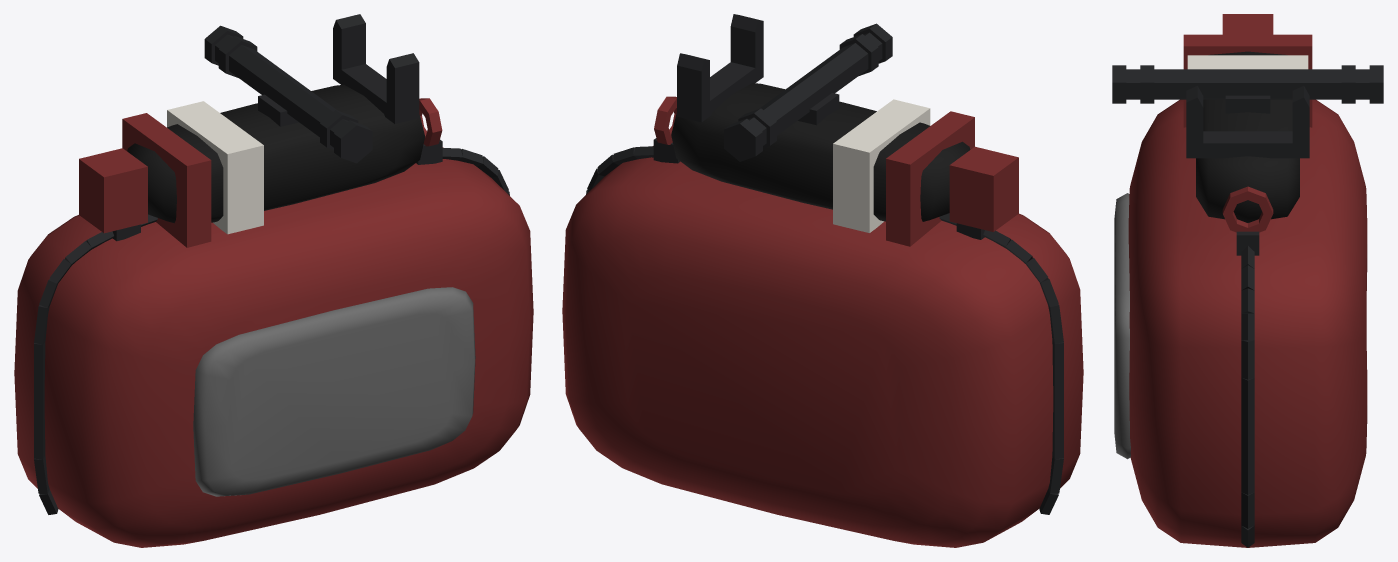
The model's file is trauma-kit-adv.glb.
3 renders of one model, left to right at view 1: azimuth 30°, elevation 25°; view 2: azimuth 150°, elevation 25°; view 3: azimuth 270°, elevation 25°, orthographic.
Visible parts, largest first — view 1: trauma-kit-adv; view 2: trauma-kit-adv; view 3: trauma-kit-adv.
Part boxes in pixels (x1,y1,x2,y2): trauma-kit-adv: (14,14,533,547); trauma-kit-adv: (562,14,1083,547); trauma-kit-adv: (1112,14,1383,547).
Bounding box in the file's own units: 0.1973 × 0.17 × 0.097.
1 material, 1 textured.
